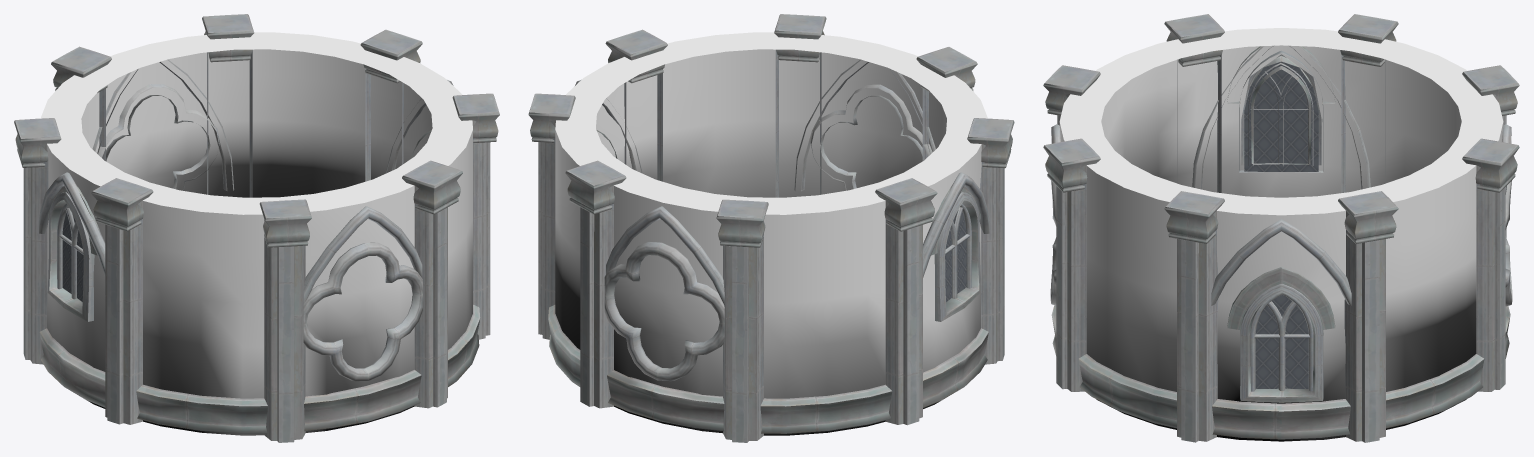
Rendered from SM_TowerB_Mid2Window_Window.fbx.
3 renders of one model, left to right at view 1: azimuth 30°, elevation 25°; view 2: azimuth 150°, elevation 25°; view 3: azimuth 270°, elevation 25°, orthographic. The views are drawn at different scales.
Parts seen in each view (by area): view 1: SM_TowerB_Mid2Window_Window_LOD0; view 2: SM_TowerB_Mid2Window_Window_LOD0; view 3: SM_TowerB_Mid2Window_Window_LOD0.
Boxes of the visible parts, x1,y1,x2,y2 form: SM_TowerB_Mid2Window_Window_LOD0: [14, 14, 499, 442]; SM_TowerB_Mid2Window_Window_LOD0: [528, 14, 1014, 442]; SM_TowerB_Mid2Window_Window_LOD0: [1043, 14, 1519, 442].
Size of what is drawn, in the model's own units: 8.58 by 4.65 by 8.58.
